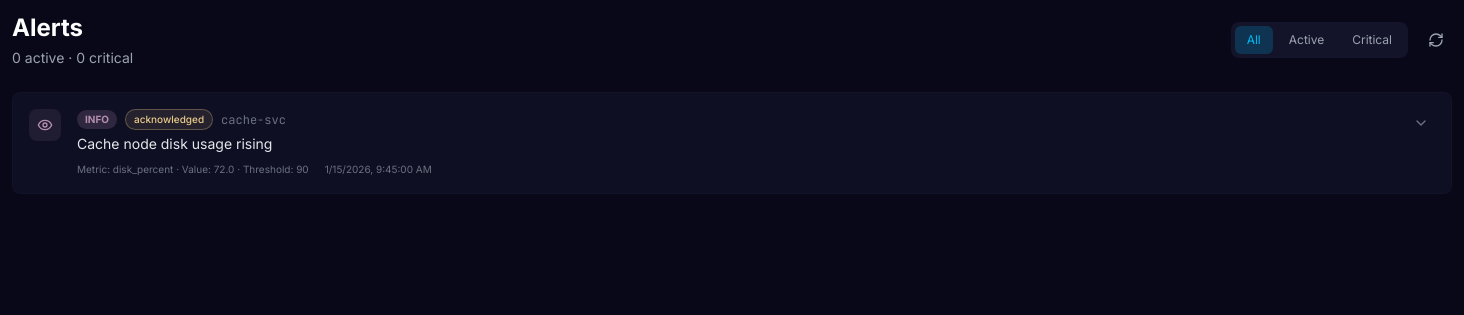
AlertPanel › filtering › shows appropriate empty message when filter results in no alerts
The image size is (1464, 315).
Click the button "Critical" at (1372, 40), box [1340,26,1404,54]
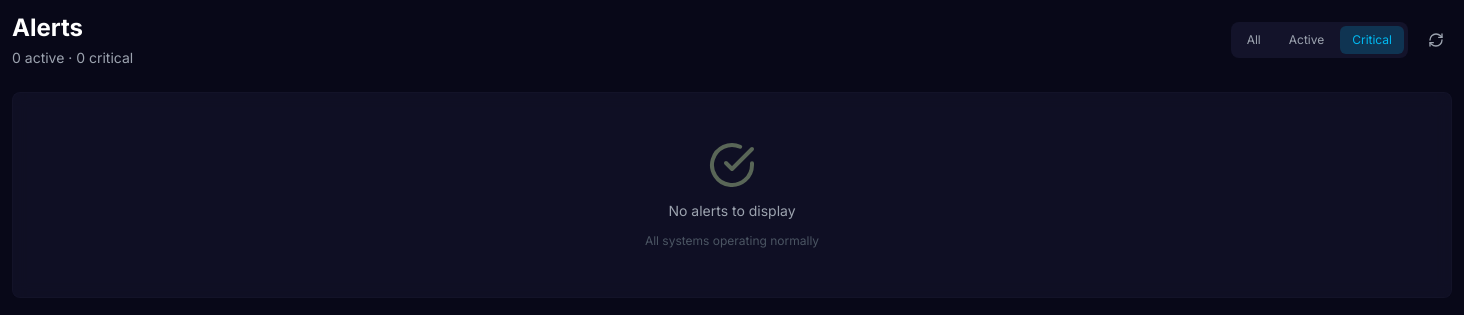
Now the text "No alerts to display" is shown, box [668,201,796,221]
